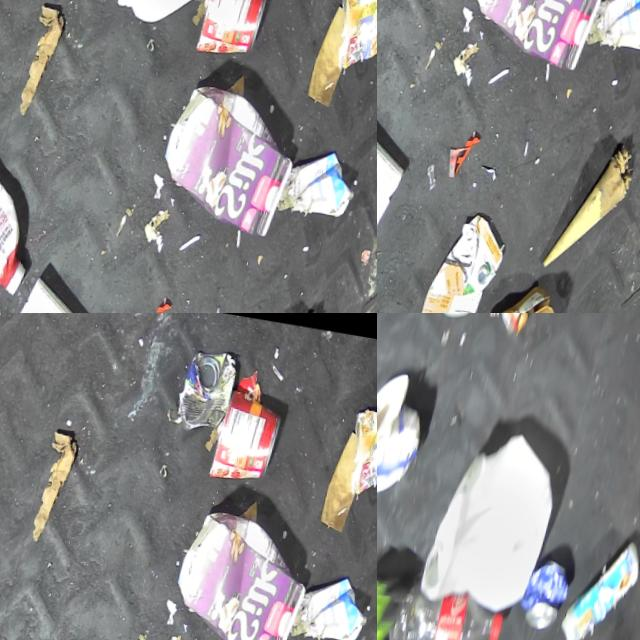can: (209, 389, 290, 487), (171, 345, 244, 437), (525, 554, 587, 634), (196, 0, 276, 61), (326, 0, 377, 76), (339, 405, 377, 502), (488, 313, 591, 343)
milk_jug: (423, 422, 578, 618), (108, 0, 248, 32)
non_white_jug: (155, 77, 315, 238), (167, 503, 327, 640), (419, 203, 523, 313), (463, 0, 623, 70), (0, 142, 59, 303)
plastic_bottle: (396, 584, 519, 640)
